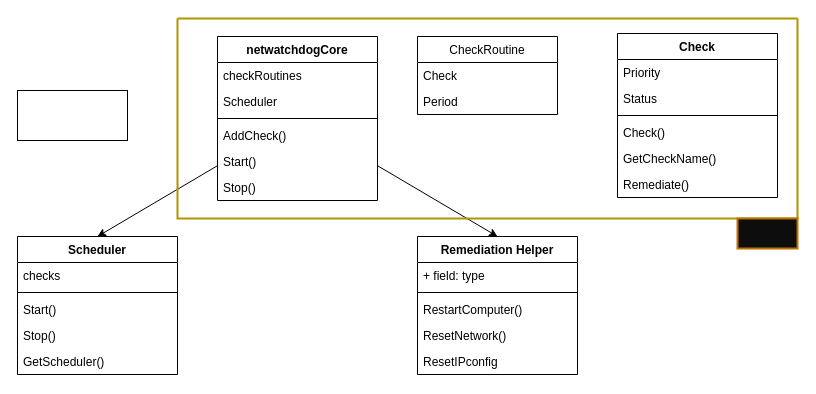
This 816x394 diagram has some shape labels left out. The shapes that lost their labels are listed below. From the top down, each one's centre as x and y in pixels, then its label:
At [72,115]: "Logger".
At [767,233]: "Core Package".
